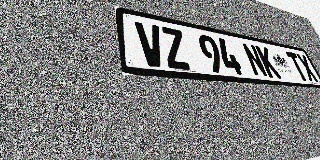4: (215, 37, 244, 75)
9: (196, 33, 227, 73)
K: (255, 45, 282, 79)
N: (241, 42, 269, 77)
T: (285, 51, 310, 81)
V: (134, 21, 168, 68)
X: (295, 53, 319, 82)
Z: (159, 26, 192, 70)
